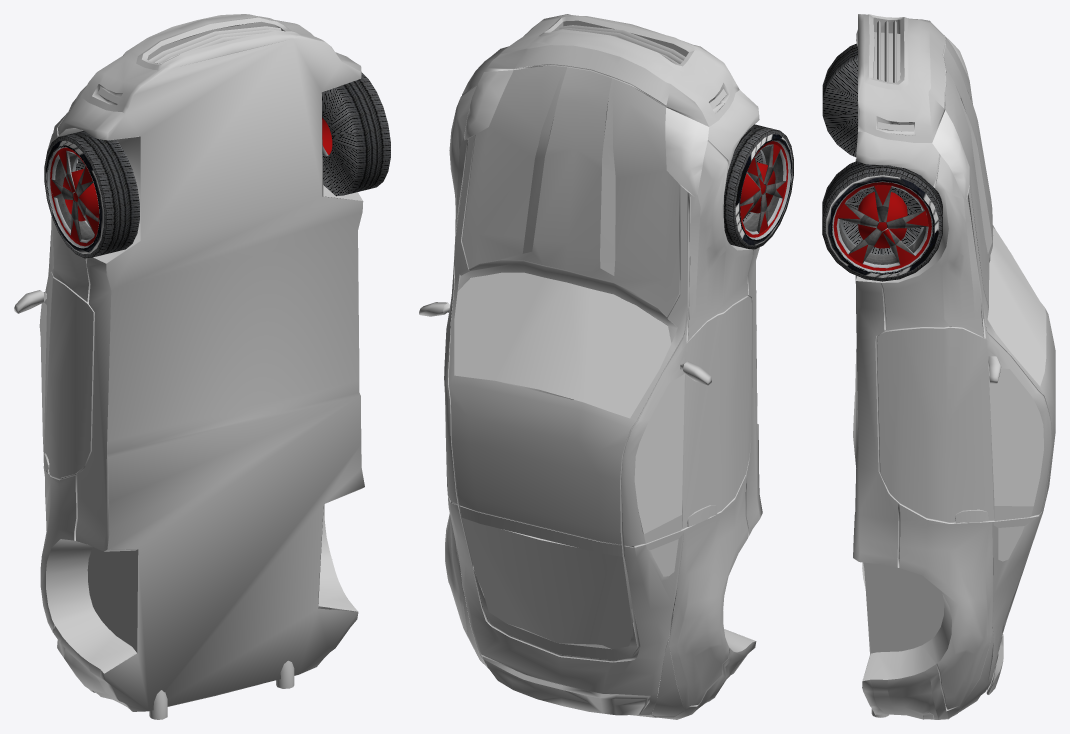
Rendered from 350 sports 2.fbx.
The picture shows the model from 3 angles, left to right: view 1: azimuth 30°, elevation 25°; view 2: azimuth 150°, elevation 25°; view 3: azimuth 270°, elevation 25°; orthographic projection. The views are drawn at different scales.
Parts seen in each view (by area): view 1: 350 sports body, 350 sports interior, Cube, 350 sports tire, 350 sports glass; view 2: 350 sports body, 350 sports glass, 350 sports interior, Cube; view 3: 350 sports body, 350 sports glass, 350 sports interior, 350 sports tire, Cube.
Part boxes in pixels (x1,y1,x2,y2): 350 sports body: (14,14,364,711); 350 sports interior: (42,21,363,719); Cube: (44,131,139,258); 350 sports tire: (322,72,390,196); 350 sports glass: (39,86,86,443); 350 sports body: (419,14,762,719); 350 sports glass: (445,70,709,649); 350 sports interior: (443,20,755,716); Cube: (723,124,793,249); 350 sports body: (853,14,1055,719); 350 sports glass: (932,37,1046,618); 350 sports interior: (856,17,1039,719); 350 sports tire: (822,161,942,281); Cube: (822,43,857,157).
Bounding box in the file's own units: 267 × 580 × 189.
